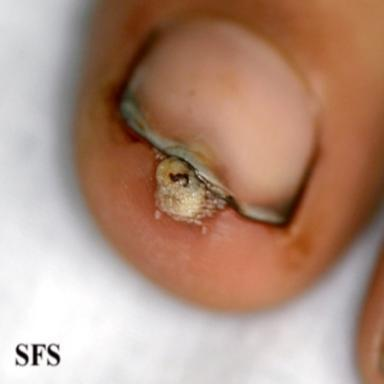Tungiasis: (154, 148, 226, 234)
